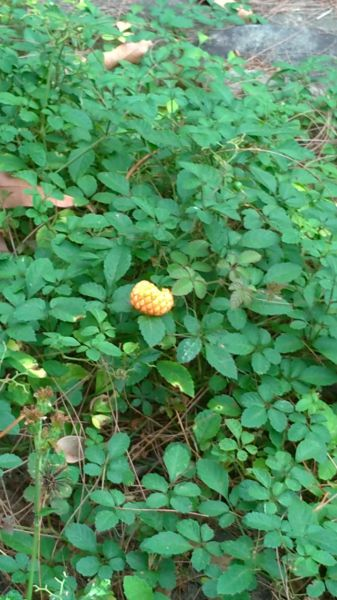eggs: (127, 275, 177, 321)
